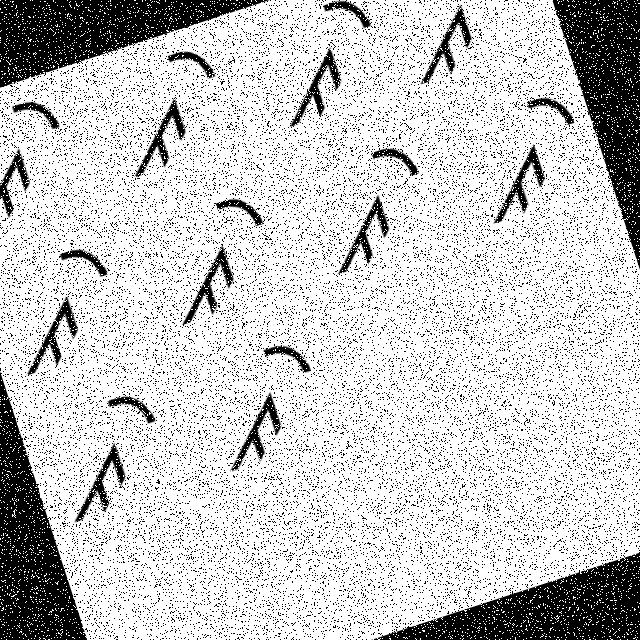kay: (27, 376, 188, 547), (192, 320, 348, 492), (133, 177, 293, 339), (300, 128, 452, 294), (449, 74, 604, 235), (97, 28, 248, 189), (0, 227, 142, 393), (254, 0, 405, 134), (383, 0, 540, 102), (0, 82, 95, 245)
